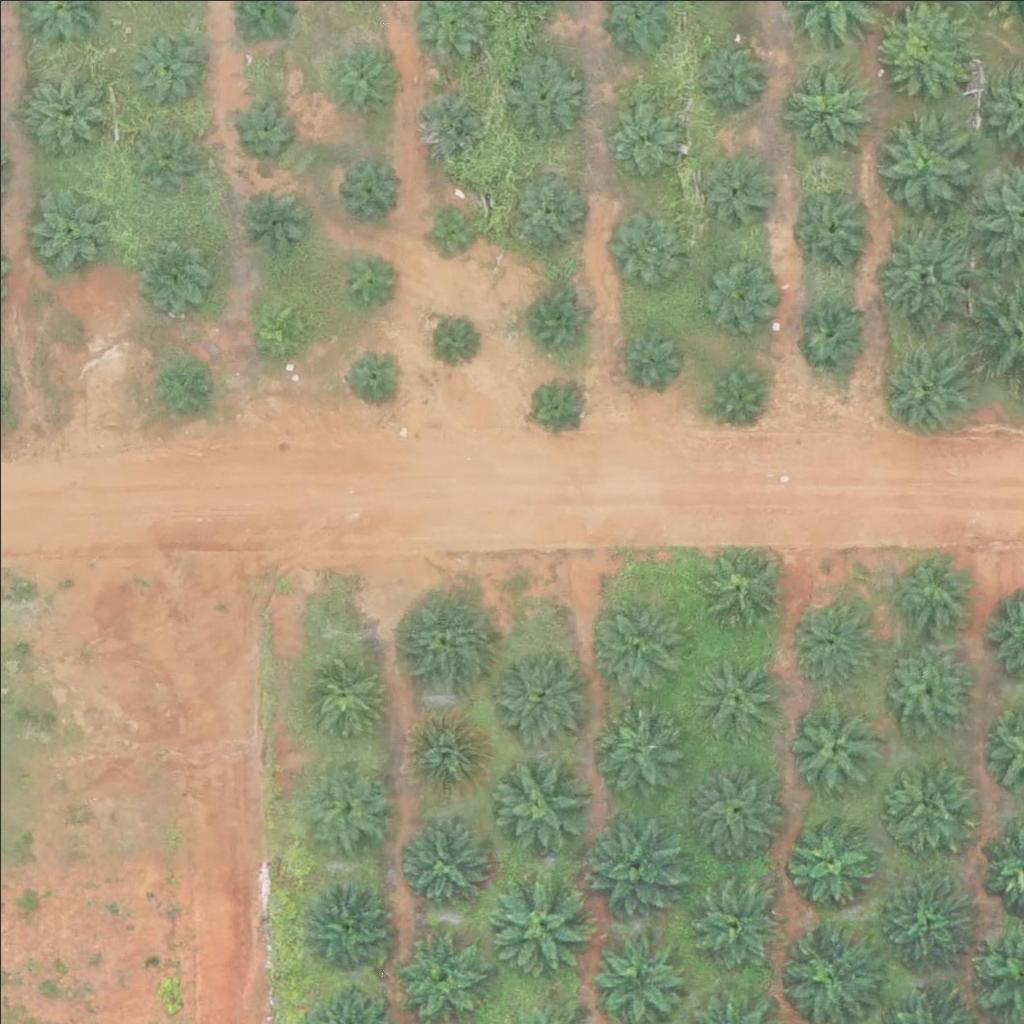Kelapa_Sawit: (484, 871, 584, 972), (585, 811, 685, 912), (683, 872, 783, 973), (685, 756, 785, 857), (874, 872, 974, 973), (588, 598, 688, 699), (486, 750, 586, 851), (488, 646, 588, 747), (389, 592, 489, 693), (872, 639, 972, 739), (877, 335, 977, 435), (873, 219, 973, 319), (873, 112, 973, 212), (498, 53, 586, 141), (394, 932, 482, 1020), (400, 822, 488, 910), (787, 814, 875, 902), (787, 701, 875, 789), (785, 595, 873, 683), (689, 655, 777, 743), (692, 545, 780, 633), (400, 711, 488, 799), (295, 648, 383, 736), (783, 61, 871, 149), (789, 182, 876, 270), (301, 885, 388, 973), (302, 759, 389, 847), (882, 755, 969, 843), (885, 548, 972, 636), (586, 708, 673, 796), (607, 103, 682, 179), (697, 155, 772, 231), (692, 36, 767, 112), (124, 122, 199, 198), (140, 232, 215, 308), (26, 71, 101, 147), (797, 294, 872, 370), (31, 191, 106, 267), (699, 253, 774, 328), (606, 211, 681, 286), (508, 167, 583, 242), (124, 32, 199, 107), (409, 82, 484, 157), (237, 177, 312, 252), (223, 87, 298, 162), (526, 375, 589, 438), (525, 286, 588, 349), (328, 46, 391, 109), (251, 291, 314, 354), (159, 353, 222, 416), (707, 359, 769, 422), (617, 326, 679, 389), (342, 344, 404, 407), (338, 244, 400, 307), (338, 157, 400, 220), (424, 312, 474, 363), (425, 206, 475, 257)
